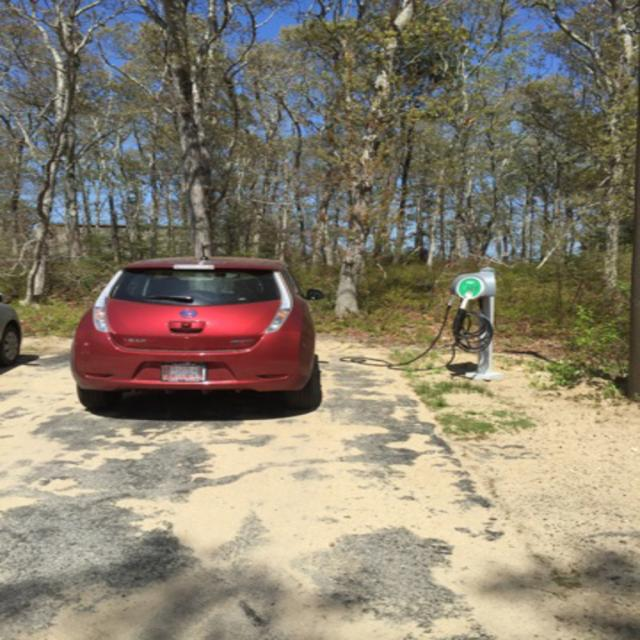car: (64, 242, 328, 412)
